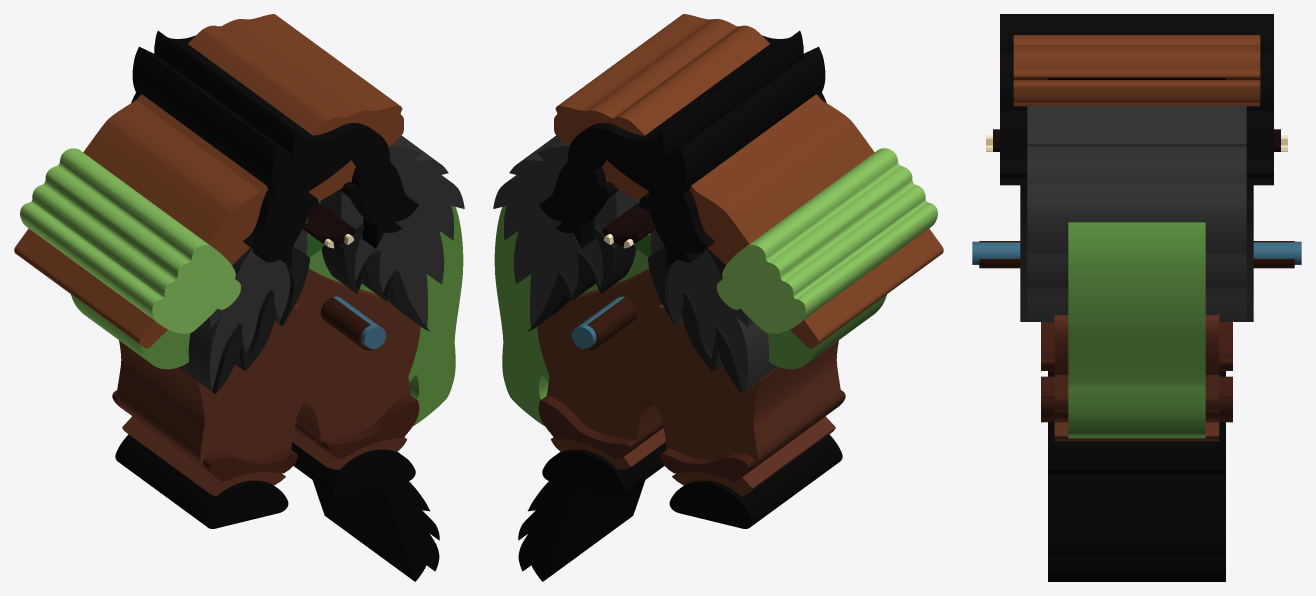
3 views of the same model, side by side, from view 1: azimuth 30°, elevation 25°; view 2: azimuth 150°, elevation 25°; view 3: azimuth 270°, elevation 25° (orthographic).
Visible parts, largest first — view 1: U+1F9CC_layer08_obj00, U+1F9CC_layer02_obj00, U+1F9CC_layer09_obj00, U+1F9CC_layer10_obj03, U+1F9CC_layer06_obj02, U+1F9CC_layer03_obj12, U+1F9CC_layer06_obj00, U+1F9CC_layer03_obj01, U+1F9CC_layer00_obj04, U+1F9CC_layer03_obj02, U+1F9CC_layer10_obj01, U+1F9CC_layer10_obj00 (+11 smaller); view 2: U+1F9CC_layer08_obj00, U+1F9CC_layer02_obj00, U+1F9CC_layer09_obj00, U+1F9CC_layer10_obj03, U+1F9CC_layer06_obj02, U+1F9CC_layer03_obj12, U+1F9CC_layer06_obj00, U+1F9CC_layer03_obj01, U+1F9CC_layer00_obj04, U+1F9CC_layer03_obj02, U+1F9CC_layer10_obj01, U+1F9CC_layer10_obj00 (+11 smaller); view 3: U+1F9CC_layer06_obj02, U+1F9CC_layer00_obj04, U+1F9CC_layer03_obj12, U+1F9CC_layer08_obj00, U+1F9CC_layer10_obj03, U+1F9CC_layer03_obj02, U+1F9CC_layer10_obj00, U+1F9CC_layer02_obj00, U+1F9CC_layer07_obj02, U+1F9CC_layer14_obj00, U+1F9CC_layer04_obj00, U+1F9CC_layer04_obj01 (+1 smaller).
Boxes of the visible parts, x1,y1,x2,y2 form: U+1F9CC_layer08_obj00: [14, 14, 403, 348]; U+1F9CC_layer02_obj00: [117, 268, 420, 496]; U+1F9CC_layer09_obj00: [20, 148, 240, 333]; U+1F9CC_layer10_obj03: [132, 26, 390, 268]; U+1F9CC_layer06_obj02: [320, 135, 464, 327]; U+1F9CC_layer03_obj12: [312, 469, 439, 581]; U+1F9CC_layer06_obj00: [181, 217, 307, 391]; U+1F9CC_layer03_obj01: [115, 434, 288, 528]; U+1F9CC_layer00_obj04: [408, 205, 463, 425]; U+1F9CC_layer03_obj02: [291, 442, 415, 497]; U+1F9CC_layer10_obj01: [131, 92, 309, 262]; U+1F9CC_layer10_obj00: [350, 158, 418, 232]; U+1F9CC_layer08_obj00: [554, 14, 943, 348]; U+1F9CC_layer02_obj00: [537, 268, 840, 496]; U+1F9CC_layer09_obj00: [717, 148, 937, 333]; U+1F9CC_layer10_obj03: [567, 26, 825, 268]; U+1F9CC_layer06_obj02: [493, 135, 637, 327]; U+1F9CC_layer03_obj12: [518, 469, 645, 581]; U+1F9CC_layer06_obj00: [650, 217, 776, 391]; U+1F9CC_layer03_obj01: [669, 434, 842, 528]; U+1F9CC_layer00_obj04: [494, 205, 549, 425]; U+1F9CC_layer03_obj02: [542, 442, 666, 497]; U+1F9CC_layer10_obj01: [648, 92, 826, 262]; U+1F9CC_layer10_obj00: [539, 158, 607, 232]; U+1F9CC_layer06_obj02: [1027, 105, 1246, 321]; U+1F9CC_layer00_obj04: [1068, 222, 1205, 438]; U+1F9CC_layer03_obj12: [1048, 474, 1225, 581]; U+1F9CC_layer08_obj00: [1013, 35, 1260, 106]; U+1F9CC_layer10_obj03: [1000, 14, 1273, 110]; U+1F9CC_layer03_obj02: [1048, 422, 1225, 473]; U+1F9CC_layer10_obj00: [1000, 110, 1273, 185]; U+1F9CC_layer02_obj00: [1054, 315, 1219, 441]; U+1F9CC_layer07_obj02: [1020, 185, 1253, 321]; U+1F9CC_layer14_obj00: [972, 241, 1301, 264]; U+1F9CC_layer04_obj00: [1041, 376, 1232, 422]; U+1F9CC_layer04_obj01: [1041, 322, 1232, 370].
Bounding box in the file's own units: 0.2919 × 0.3984 × 0.24.
